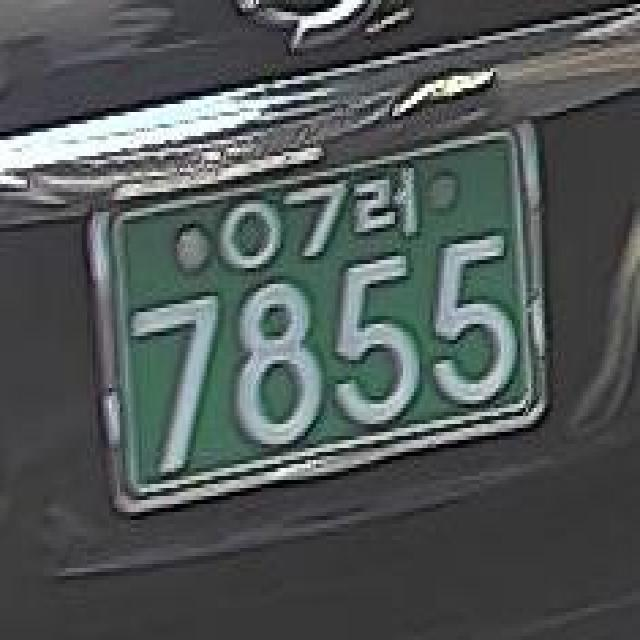illegal_plate: (81, 113, 566, 537)
